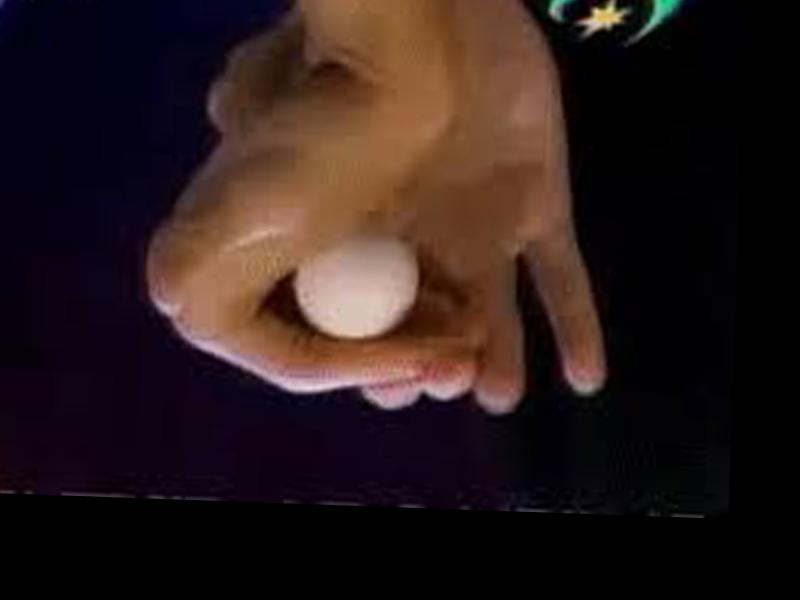Eggs: (288, 241, 422, 344)
